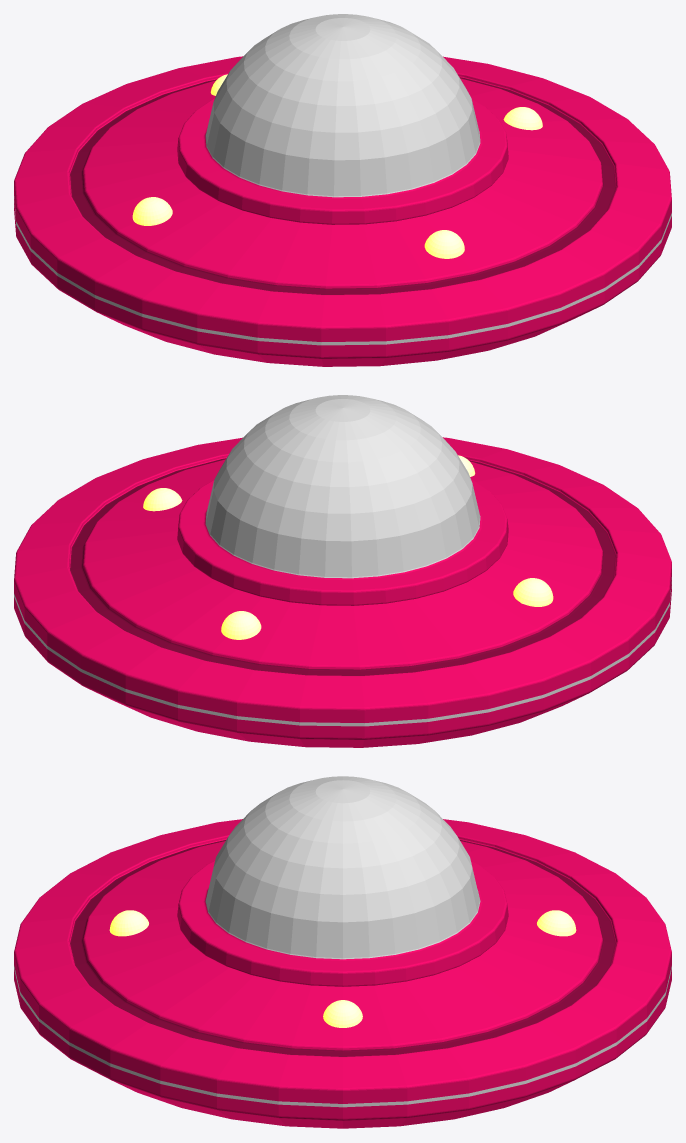
The model's file is ovni.fbx.
The picture shows the model from 3 angles, top to bottom: view 1: azimuth 30°, elevation 25°; view 2: azimuth 150°, elevation 25°; view 3: azimuth 270°, elevation 25°; orthographic projection.
Visible parts, largest first — view 1: ovni.003, Sphere; view 2: ovni.003, Sphere; view 3: ovni.003, Sphere.
Boxes of the visible parts, x1,y1,x2,y2 form: ovni.003: (14, 14, 671, 366); Sphere: (132, 74, 542, 258); ovni.003: (14, 395, 671, 747); Sphere: (143, 455, 553, 639); ovni.003: (14, 776, 671, 1128); Sphere: (109, 910, 576, 1027).
Size of the model in its own units: 470 by 470 by 186.
